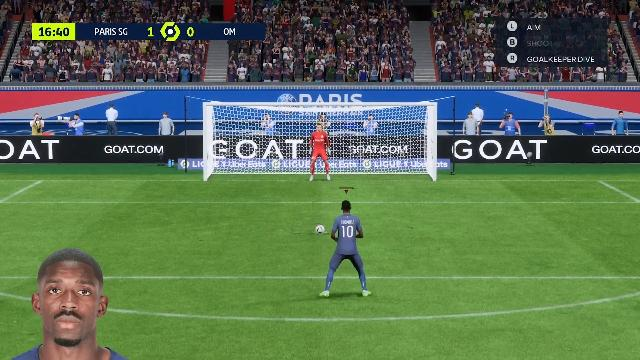football: (315, 226, 325, 232)
goal-bottom-left: (210, 149, 284, 183)
goal-bottom-right: (354, 148, 432, 182)
goal-middle-down: (286, 148, 354, 182)
goal-middle-up: (285, 107, 353, 147)
goal-top-left: (210, 107, 284, 147)
goal-top-right: (354, 108, 432, 146)
goalkeeper: (303, 124, 335, 182)
player: (324, 199, 370, 299)
